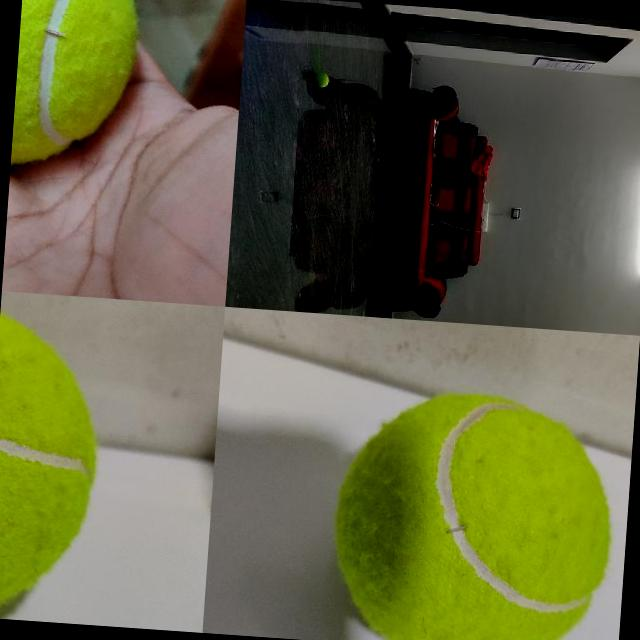Tennis Ball: (326, 382, 623, 640), (0, 299, 109, 623), (11, 0, 140, 170), (313, 72, 330, 88)
